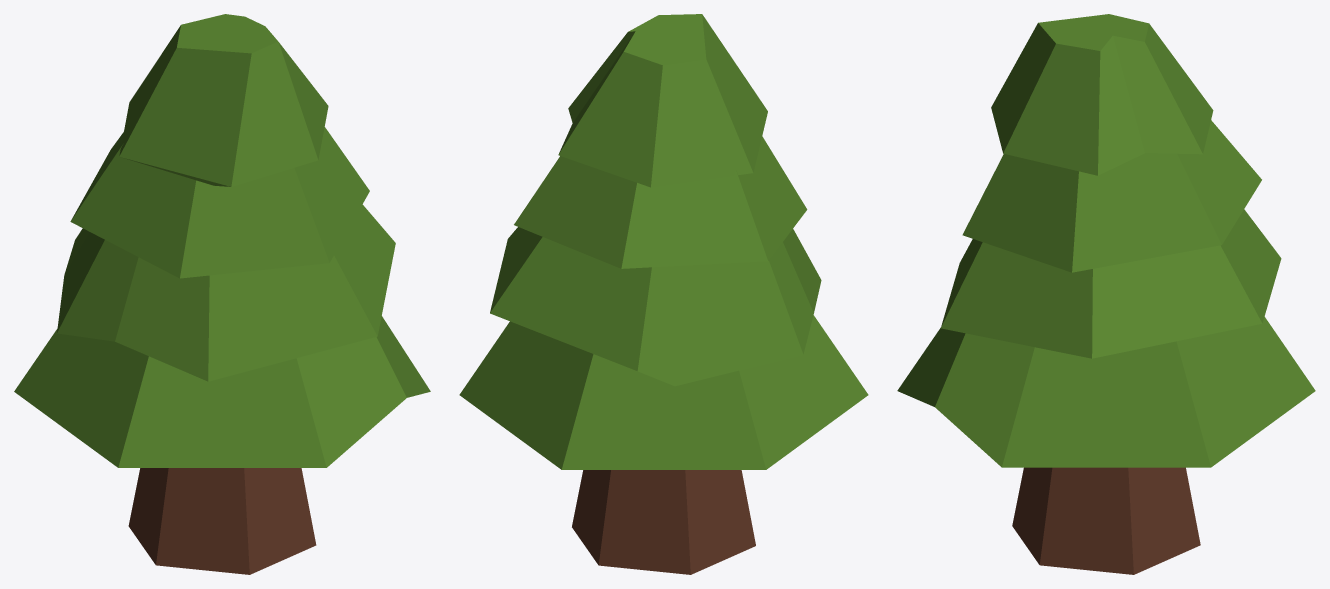
File: pino.glb
3 renders of one model, left to right at view 1: azimuth 30°, elevation 25°; view 2: azimuth 150°, elevation 25°; view 3: azimuth 270°, elevation 25°, orthographic. The views are drawn at different scales.
Parts seen in each view (by area): view 1: Cylinder.001, Cylinder.002, Cylinder.003, Cylinder.004, Cylinder; view 2: Cylinder.001, Cylinder.002, Cylinder.004, Cylinder.003, Cylinder; view 3: Cylinder.001, Cylinder.002, Cylinder.003, Cylinder.004, Cylinder.
Part boxes in pixels (box(x1,y1,x2,y2)): Cylinder.001: box(14, 316, 430, 467); Cylinder.002: box(57, 204, 395, 381); Cylinder.003: box(70, 127, 369, 278); Cylinder.004: box(119, 14, 328, 186); Cylinder: box(128, 468, 316, 574); Cylinder.001: box(459, 315, 868, 469); Cylinder.002: box(490, 227, 821, 386); Cylinder.004: box(558, 14, 767, 187); Cylinder.003: box(514, 136, 807, 268); Cylinder: box(572, 470, 755, 574); Cylinder.001: box(897, 317, 1315, 467); Cylinder.002: box(941, 209, 1281, 358); Cylinder.003: box(962, 120, 1261, 272); Cylinder.004: box(991, 14, 1213, 175); Cylinder: box(1012, 467, 1200, 574).
Size of the model in its own units: 3.86 by 5.83 by 4.32.
